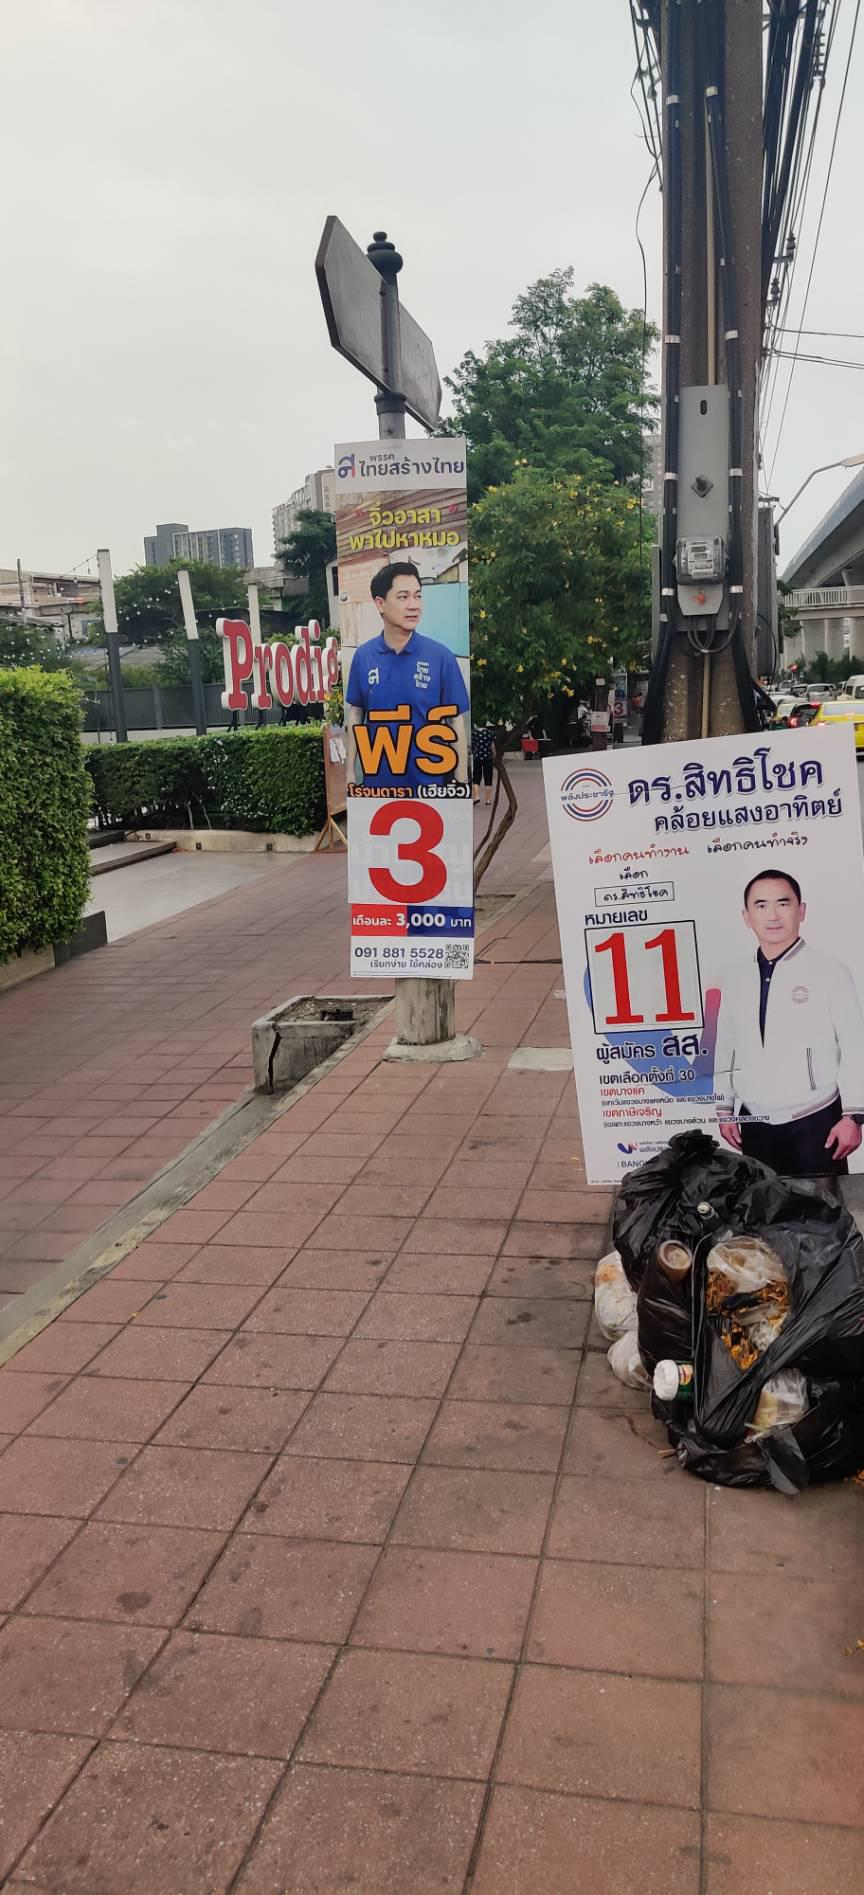Banner: (537, 709, 864, 1205), (314, 428, 476, 989)
